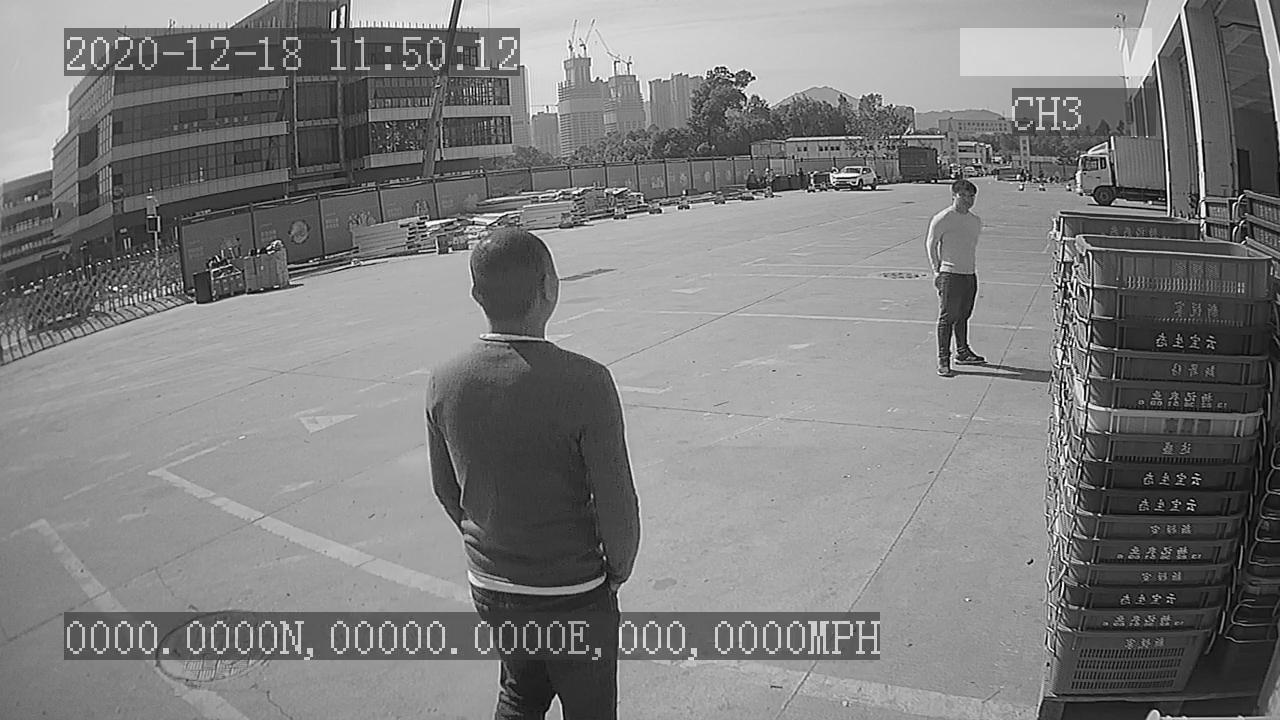person: (920, 174, 993, 385)
